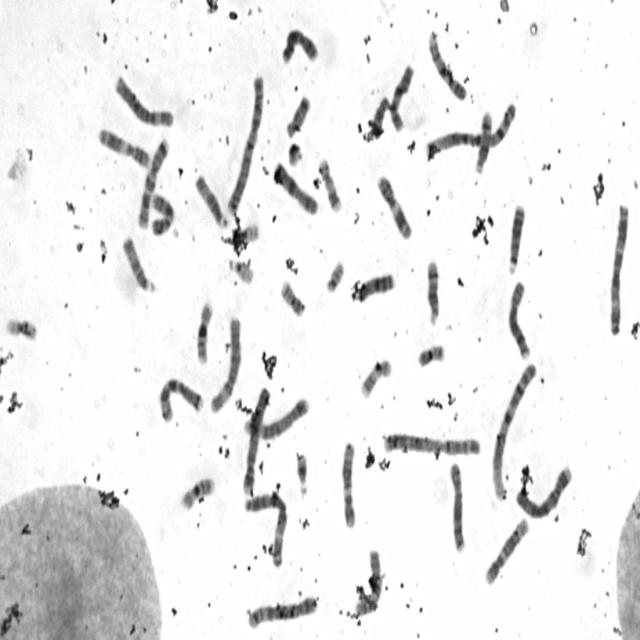A1: (489, 357, 539, 503), (424, 96, 518, 160)
A2: (223, 69, 266, 215), (379, 425, 483, 459)
A3: (242, 486, 290, 568), (605, 196, 631, 336)
B4: (513, 458, 574, 521), (240, 378, 272, 496)
B5: (241, 391, 311, 439), (245, 590, 318, 631)
C10: (384, 58, 420, 135), (352, 544, 384, 618)
C11: (373, 169, 414, 242), (95, 121, 153, 170)
C12: (482, 512, 530, 587), (338, 436, 359, 531)
C6: (111, 68, 176, 129), (208, 310, 244, 414)
C7: (135, 132, 171, 230), (156, 370, 205, 424)
C8: (504, 274, 532, 362), (446, 455, 467, 554)
C9: (425, 24, 469, 103), (147, 189, 176, 238)
D13: (505, 196, 527, 276), (351, 266, 396, 305)
D14: (472, 104, 494, 174), (423, 253, 442, 327)
D15: (119, 230, 157, 296), (192, 168, 229, 228)
E16: (178, 470, 217, 512), (193, 294, 215, 365)
E17: (316, 152, 344, 214), (357, 353, 393, 400)
E18: (284, 90, 312, 138), (366, 90, 390, 137)
F19: (2, 310, 39, 342), (228, 218, 260, 246)
F20: (277, 275, 307, 319), (414, 337, 447, 369)
G21: (292, 445, 310, 499), (285, 136, 305, 168)
G22: (225, 253, 255, 285), (322, 254, 346, 293)
X: (269, 155, 320, 217), (278, 23, 321, 65)
